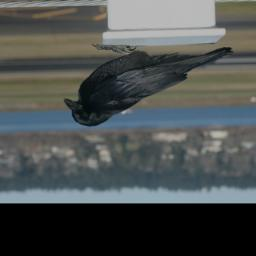Crow: (63, 44, 235, 128)
